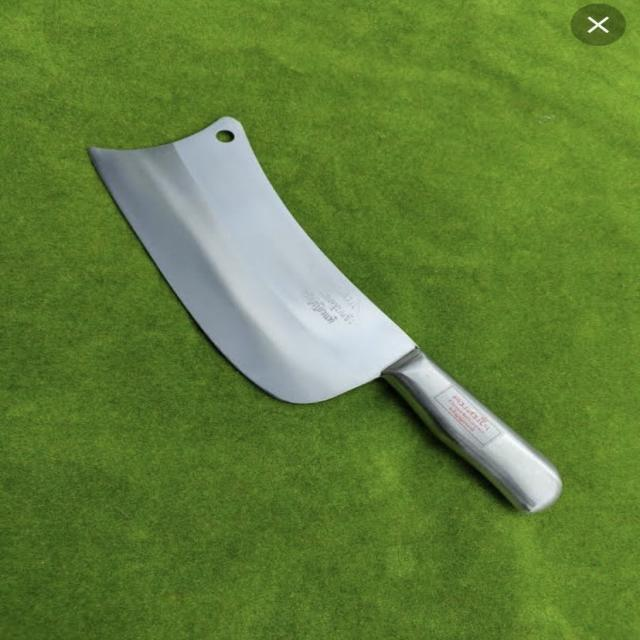Knife: (77, 106, 572, 524)
